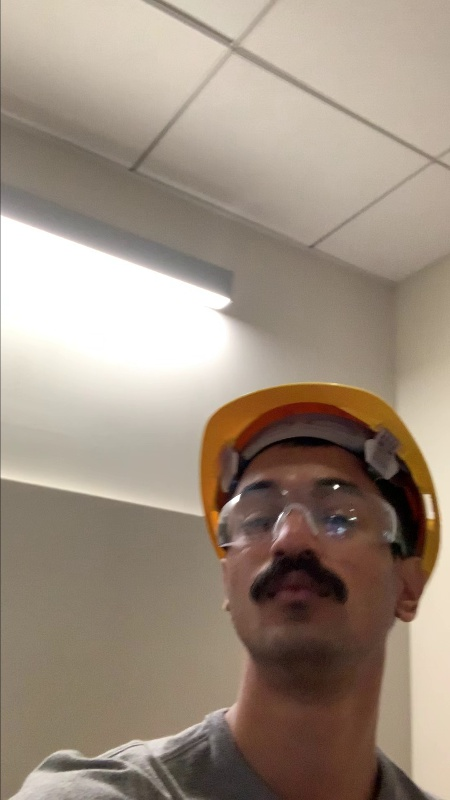glasses: (214, 484, 402, 546)
helmet: (202, 382, 409, 442)
